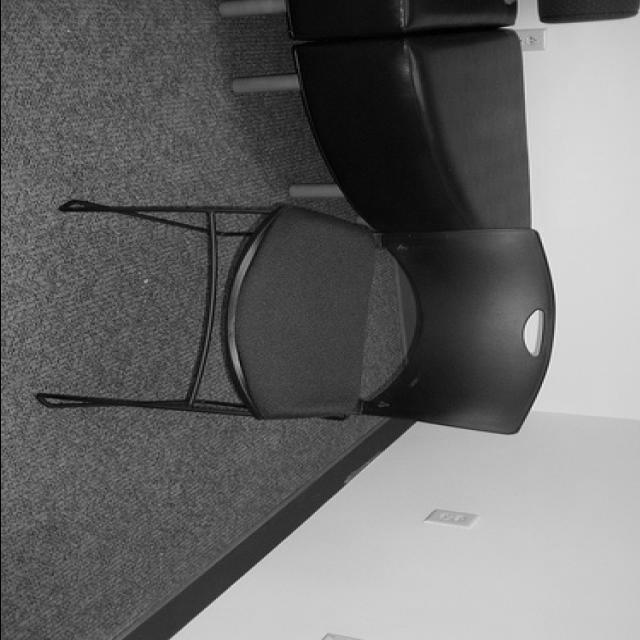chair: (35, 200, 555, 435)
